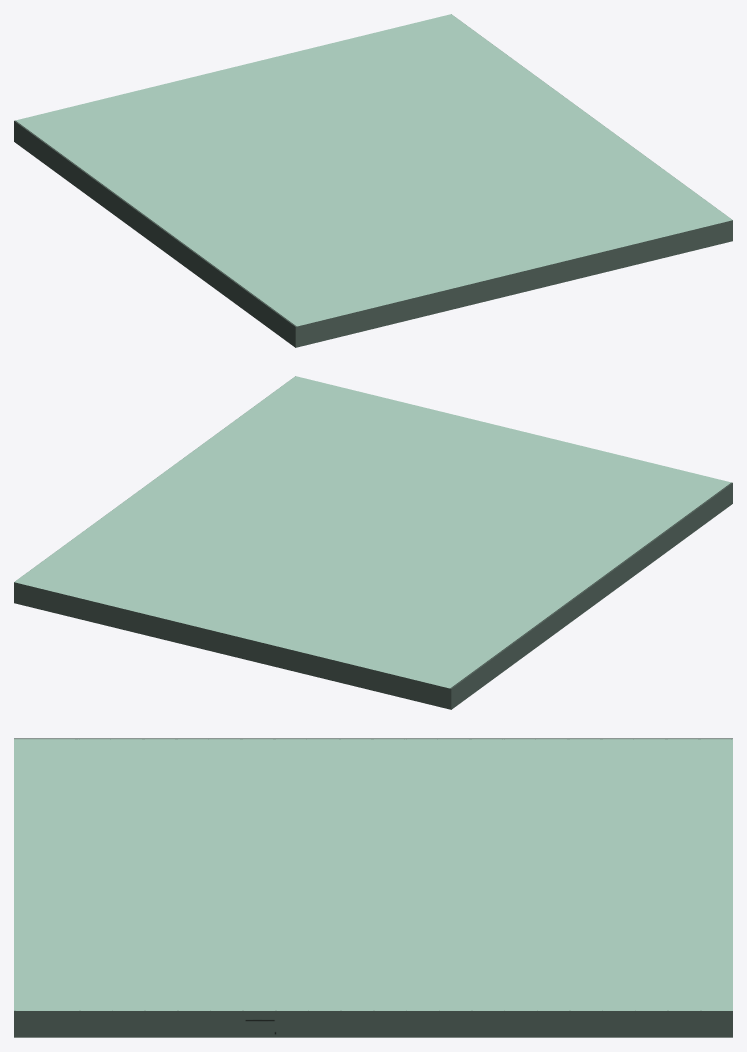
The model's file is tempLevel-col.glb.
3 views of the same model, one above another, from view 1: azimuth 30°, elevation 25°; view 2: azimuth 150°, elevation 25°; view 3: azimuth 270°, elevation 25° (orthographic). The views are drawn at different scales.
Parts seen in each view (by area): view 1: Cube-col; view 2: Cube-col; view 3: Cube-col.
Part boxes in pixels (x1=…): Cube-col: x1=14, y1=14, x2=732, y2=347; Cube-col: x1=14, y1=376, x2=732, y2=709; Cube-col: x1=14, y1=738, x2=732, y2=1037.
Size of the model in its own units: 10.9 by 0.5 by 12.15.
1 material, 1 textured.
